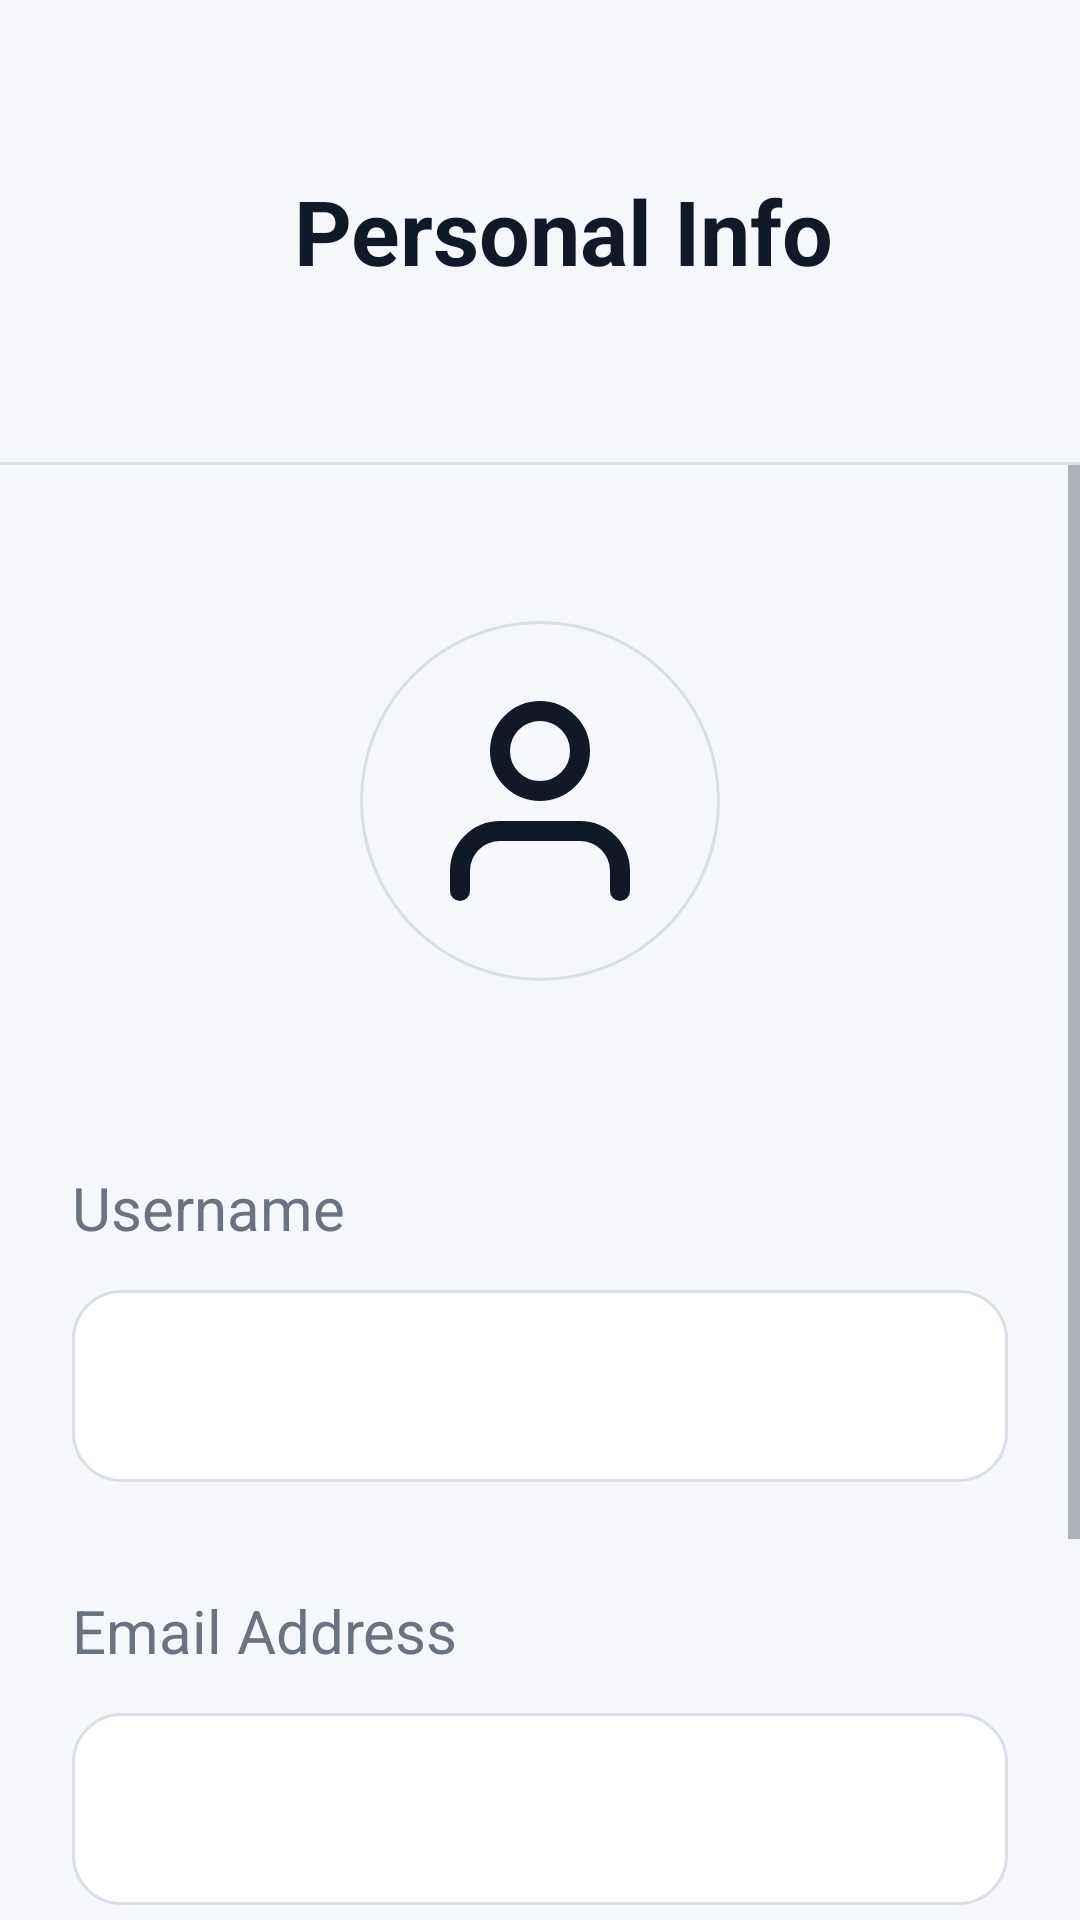

Screen size 1080w x 1920h. Icon name, then its center in pixels as [x,y]:
Change photo: [540,801]
